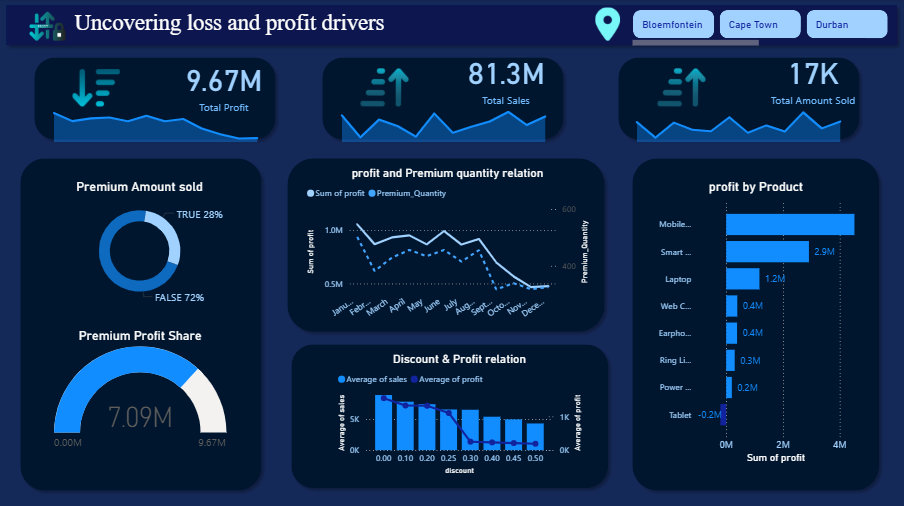

The page's visual inventory and layout, read from the dashboard file:
{"tool":"powerbi","page":{"name":"Dashboard 2","canvas":[1280,720],"ordinal":0},"visuals":[{"type":"shape","box":[40.3,73.7,359.5,134.4],"z":0},{"type":"shape","box":[448.5,73.7,359.5,134.4],"z":1000},{"type":"shape","box":[866.8,73.7,359.5,134.4],"z":2000},{"type":"card","fields":{"Values":["Sum(electronics_sales sales_data.profit)"]},"box":[255.3,73.7,124.3,94.1],"z":3000},{"type":"areaChart","fields":{"Category":["electronics_sales sales_data.date.Variation.Date Hierarchy.Month"],"Y":["Sum(electronics_sales sales_data.profit)"]},"box":[60.5,139.2,319.2,68.9],"z":4000},{"type":"areaChart","fields":{"Category":["electronics_sales sales_data.date.Variation.Date Hierarchy.Month"],"Y":["Sum(electronics_sales sales_data.sales)"]},"box":[468.7,139.2,319.2,68.9],"z":5000},{"type":"card","fields":{"Values":["Sum(electronics_sales sales_data.sales)"]},"box":[643.4,63.6,147.8,94.1],"z":6000},{"type":"areaChart","fields":{"Category":["electronics_sales sales_data.date.Variation.Date Hierarchy.Month"],"Y":["Sum(electronics_sales sales_data.Quantity)"]},"box":[886.9,139.2,319.2,68.9],"z":7000},{"type":"card","fields":{"Values":["Sum(electronics_sales sales_data.Quantity)"]},"box":[1078.4,63.6,147.8,94.1],"z":8000},{"type":"shape","box":[20.2,216.7,359.5,472],"z":9000},{"type":"gauge","title":"Premium Profit Share","fields":{"MaxValue":["Sum(electronics_sales sales_data.profit)"],"Y":["electronics_sales sales_data.Premium profit"]},"box":[47,467,304,183.1],"z":10000},{"type":"donutChart","title":"Premium Amount sold","fields":{"Category":["electronics_sales sales_data.Is_Premium"],"Y":["Sum(electronics_sales sales_data.Quantity)"]},"box":[60.5,255.3,273.8,183.1],"z":11000},{"type":"shape","box":[399.8,450.2,467,238.5],"z":12000},{"type":"areaChart","title":"profit and Premium quantity relation","fields":{"Category":["electronics_sales sales_data.date.Variation.Date Hierarchy.Month"],"Y":["Sum(electronics_sales sales_data.profit)"],"Y2":["electronics_sales sales_data.Premium_Quantity"]},"box":[455.2,472,391.4,216.7],"z":13000},{"type":"shape","box":[886.9,216.7,367.9,488.8],"z":14000},{"type":"barChart","title":"profit by Product","fields":{"Category":["electronics_sales sales_data.Product"],"Y":["Sum(electronics_sales sales_data.profit)"]},"box":[905.7,255.1,320.3,408.2],"z":15000},{"type":"shape","box":[399.8,216.7,467,221.7],"z":16000},{"type":"lineStackedColumnComboChart","title":"Discount & Profit relation","fields":{"Category":["electronics_sales sales_data.discount"],"Y":["Avg(electronics_sales sales_data.sales)"],"Y2":["Avg(electronics_sales sales_data.profit)"]},"box":[468.7,236.9,356.1,178.1],"z":17000},{"type":"shape","box":[0,0,1280,74.3],"z":18000},{"type":"advancedSlicerVisual","fields":{"Values":["electronics_sales sales_data.City"]},"box":[891.5,9.9,372.8,63.8],"z":19000},{"type":"textbox","box":[100.6,9.9,558.4,58.1],"z":20000},{"type":"image","box":[506,89.3,78,72.3],"z":21000},{"type":"image","box":[926.9,89.3,78,72.3],"z":22000},{"type":"image","box":[97.8,89.3,76.5,72.3],"z":23000},{"type":"image","box":[36.9,7.1,60.9,63.8],"z":24000},{"type":"image","box":[834.8,7.1,52.4,56.7],"z":25000}]}

Visuals, with their boxes in screenshot pixels (x1, y1, x2, y2), scaled from the page's 1280x720 canvas onto the 904x506 screenshot:
shape: 28, 52, 282, 146
shape: 317, 52, 571, 146
shape: 612, 52, 866, 146
card - Sum(electronics_sales sales_data.profit): 180, 52, 268, 118
areaChart - electronics_sales sales_data.date.Variation.Date Hierarchy.Month x Sum(electronics_sales sales_data.profit): 43, 98, 268, 146
areaChart - electronics_sales sales_data.date.Variation.Date Hierarchy.Month x Sum(electronics_sales sales_data.sales): 331, 98, 556, 146
card - Sum(electronics_sales sales_data.sales): 454, 45, 559, 111
areaChart - electronics_sales sales_data.date.Variation.Date Hierarchy.Month x Sum(electronics_sales sales_data.Quantity): 626, 98, 852, 146
card - Sum(electronics_sales sales_data.Quantity): 762, 45, 866, 111
shape: 14, 152, 268, 484
"Premium Profit Share" gauge: 33, 328, 248, 457
"Premium Amount sold" donutChart: 43, 179, 236, 308
shape: 282, 316, 612, 484
"profit and Premium quantity relation" areaChart: 321, 332, 598, 484
shape: 626, 152, 886, 496
"profit by Product" barChart: 640, 179, 866, 466
shape: 282, 152, 612, 308
"Discount & Profit relation" lineStackedColumnComboChart: 331, 166, 583, 292
shape: 0, 0, 903, 52
advancedSlicerVisual - electronics_sales sales_data.City: 630, 7, 893, 52
textbox: 71, 7, 465, 48
image: 357, 63, 412, 114
image: 655, 63, 710, 114
image: 69, 63, 123, 114
image: 26, 5, 69, 50
image: 590, 5, 627, 45
